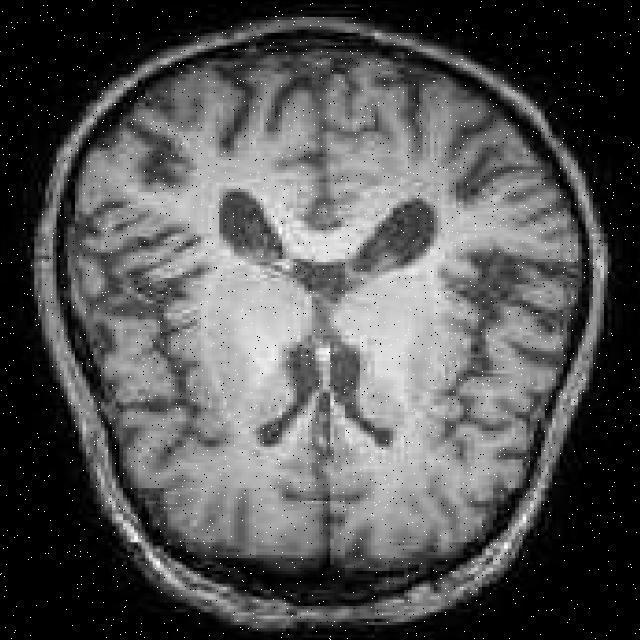No_Tumor: (35, 17, 607, 630)
